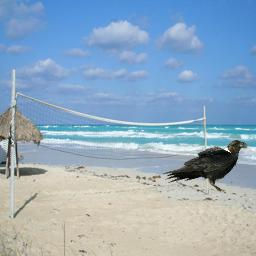Crow: (162, 139, 250, 193)
